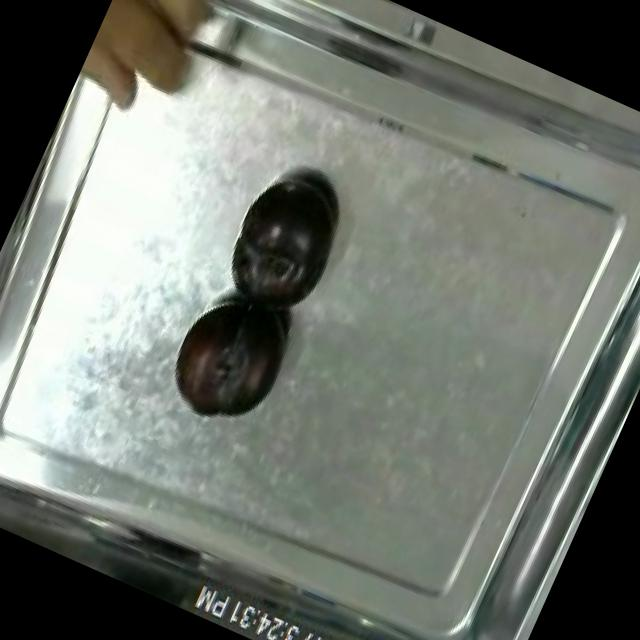Fruit: (212, 156, 364, 330), (155, 276, 309, 444)
